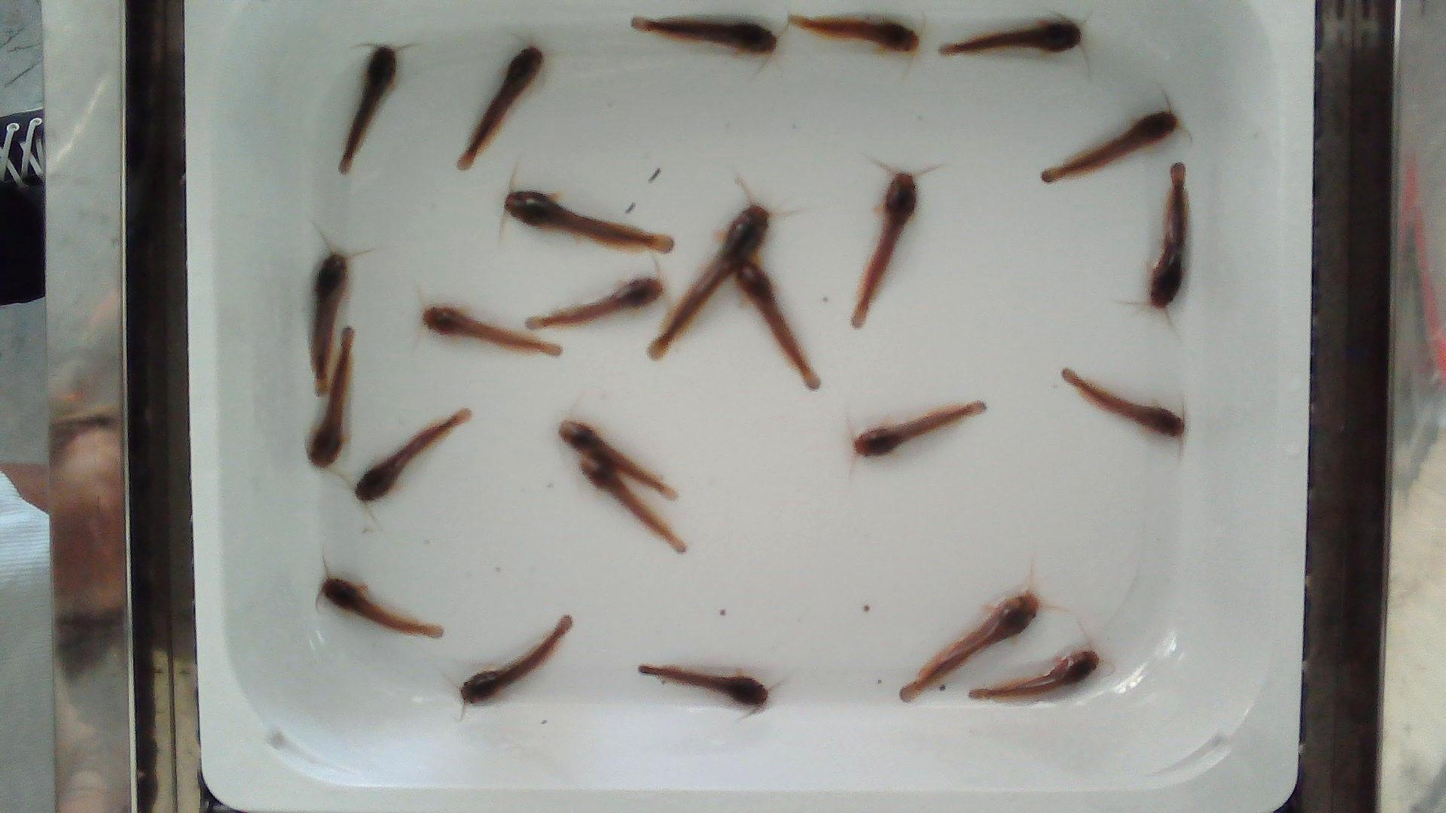lele: (900, 595, 1036, 700), (665, 203, 765, 342), (733, 257, 820, 389), (355, 408, 471, 501), (505, 190, 673, 252), (1042, 111, 1178, 183), (462, 46, 543, 166), (460, 617, 570, 705), (582, 461, 686, 553), (558, 421, 674, 502), (1062, 369, 1185, 439), (638, 662, 775, 723), (858, 172, 917, 311), (321, 576, 443, 638), (338, 45, 397, 173), (853, 401, 986, 457), (526, 278, 663, 329), (423, 306, 560, 355), (969, 652, 1099, 702), (631, 15, 777, 56), (1149, 163, 1188, 309), (311, 327, 352, 464), (307, 251, 346, 395), (939, 17, 1081, 56), (789, 16, 920, 52), (350, 774, 365, 784)
